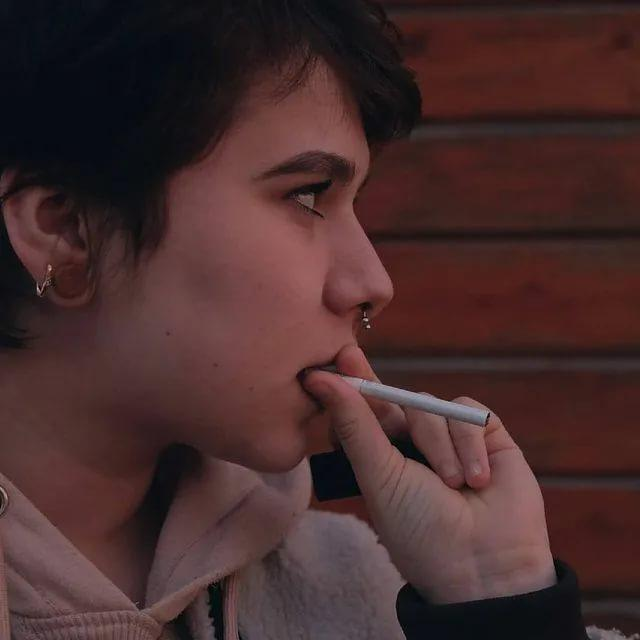cigarette: (318, 369, 494, 432)
